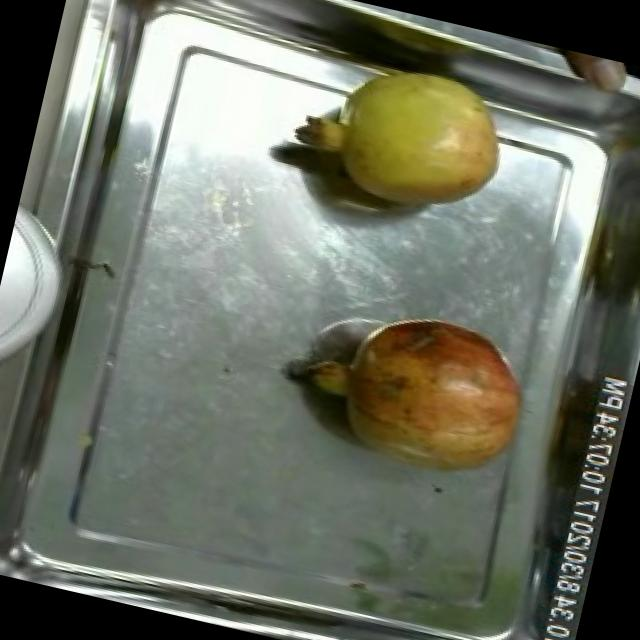fruit: (278, 282, 550, 500), (288, 41, 532, 234), (539, 44, 640, 99)
